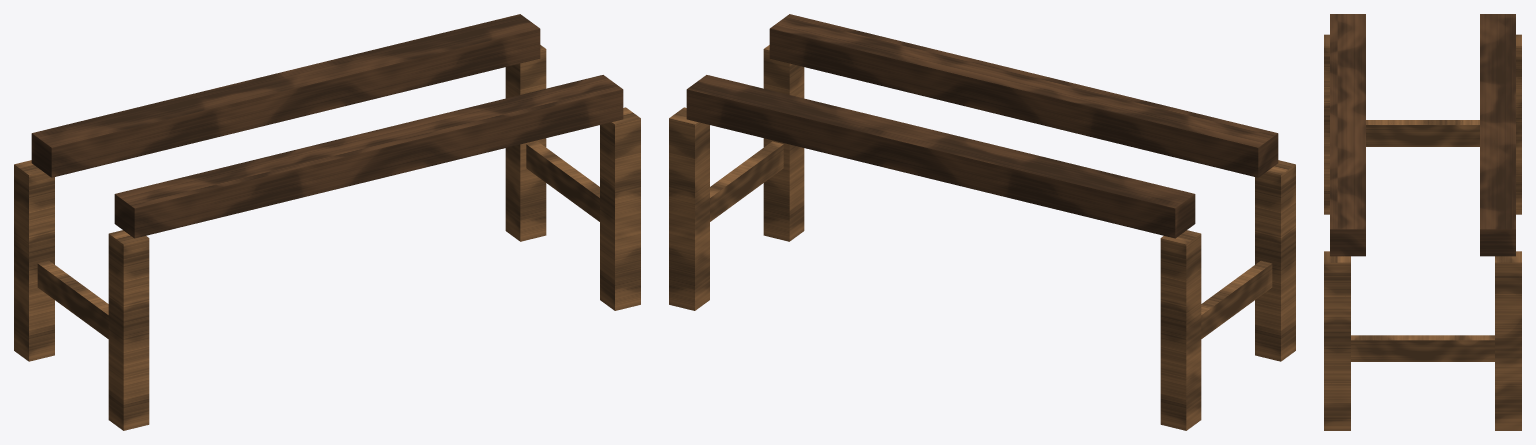
Rendered from boat_trestle.fbx.
3 renders of one model, left to right at view 1: azimuth 30°, elevation 25°; view 2: azimuth 150°, elevation 25°; view 3: azimuth 270°, elevation 25°, orthographic. The views are drawn at different scales.
Visible parts, largest first — view 1: boat_trestle; view 2: boat_trestle; view 3: boat_trestle.
Boxes of the visible parts, left/top/right/bottom form: boat_trestle: left=14, top=14, right=640, bottom=430; boat_trestle: left=669, top=14, right=1295, bottom=430; boat_trestle: left=1324, top=14, right=1521, bottom=430.
Size of the model in its own units: 180 by 72 by 66.
